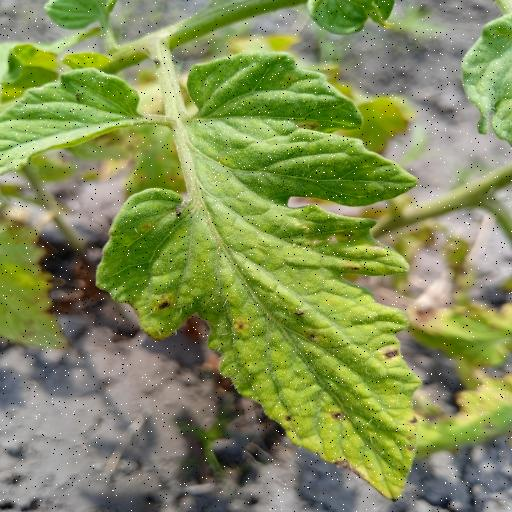Tomato_Brown_Spots: (89, 50, 442, 504)
